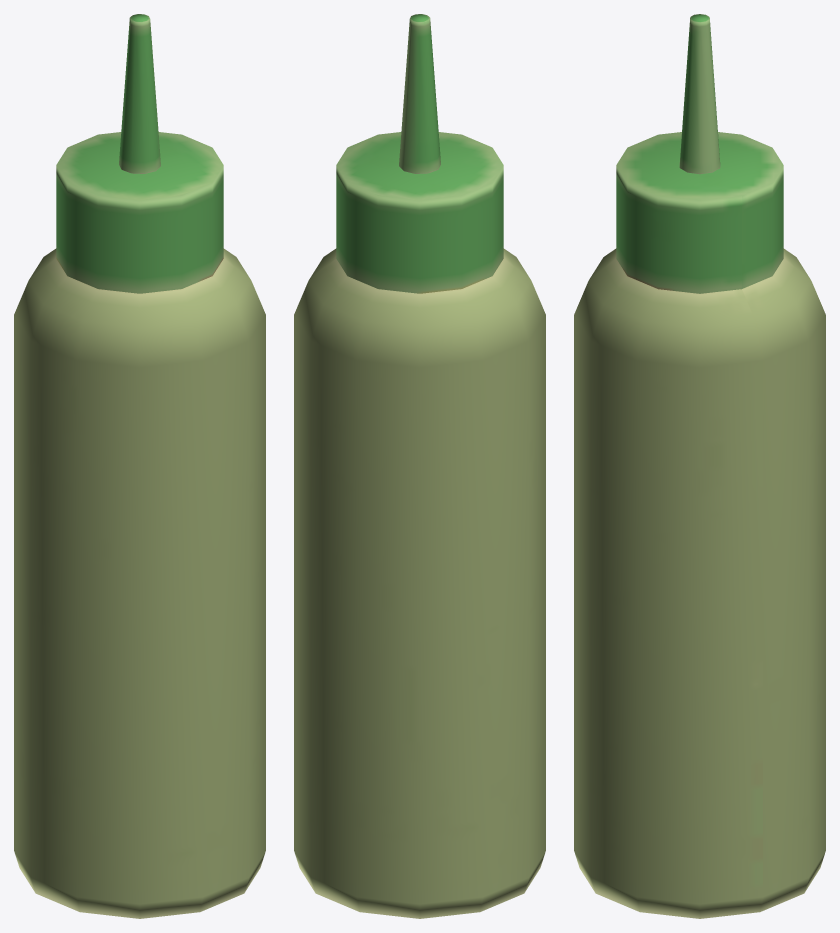
Rendered from pi_bottle01_green.gltf.
3 views of the same model, side by side, from view 1: azimuth 30°, elevation 25°; view 2: azimuth 150°, elevation 25°; view 3: azimuth 270°, elevation 25° (orthographic).
Parts seen in each view (by area): view 1: pi_bottle01_green_mesh_shape:pi_bottle01_main; view 2: pi_bottle01_green_mesh_shape:pi_bottle01_main; view 3: pi_bottle01_green_mesh_shape:pi_bottle01_main.
Part boxes in pixels (x1,y1,x2,y2): pi_bottle01_green_mesh_shape:pi_bottle01_main: (14,14,265,918); pi_bottle01_green_mesh_shape:pi_bottle01_main: (294,14,545,918); pi_bottle01_green_mesh_shape:pi_bottle01_main: (574,14,825,918).
Bounding box in the file's own units: 0.06 × 0.2234 × 0.06.
1 material, 1 textured.
